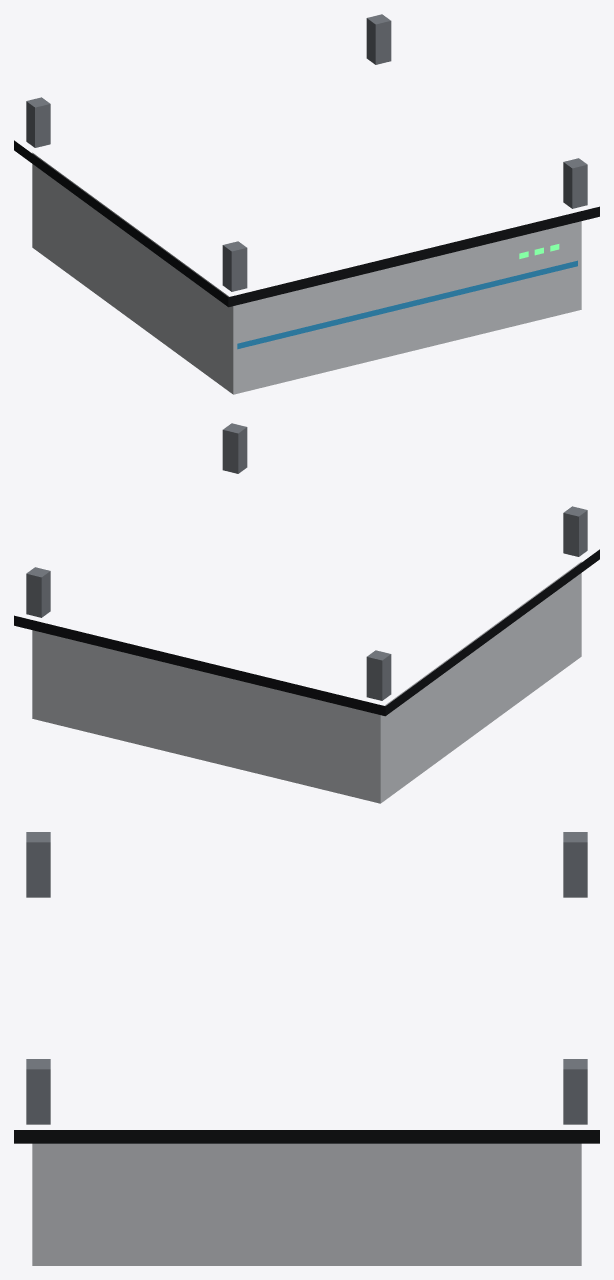
The model's file is Cooling_Ceiling.glb.
The picture shows the model from 3 angles, top to bottom: view 1: azimuth 30°, elevation 25°; view 2: azimuth 150°, elevation 25°; view 3: azimuth 270°, elevation 25°; orthographic projection. The views are drawn at different scales.
Visible parts, largest first — view 1: Cooling_Ceiling; view 2: Cooling_Ceiling; view 3: Cooling_Ceiling.
Part boxes in pixels (x1,y1,x2,y2): Cooling_Ceiling: [14, 14, 599, 394]; Cooling_Ceiling: [14, 423, 599, 803]; Cooling_Ceiling: [14, 832, 599, 1265].
Bounding box in the file's own units: 0.96 × 0.361 × 0.96.
Materials: 2 (1 with a texture image).
